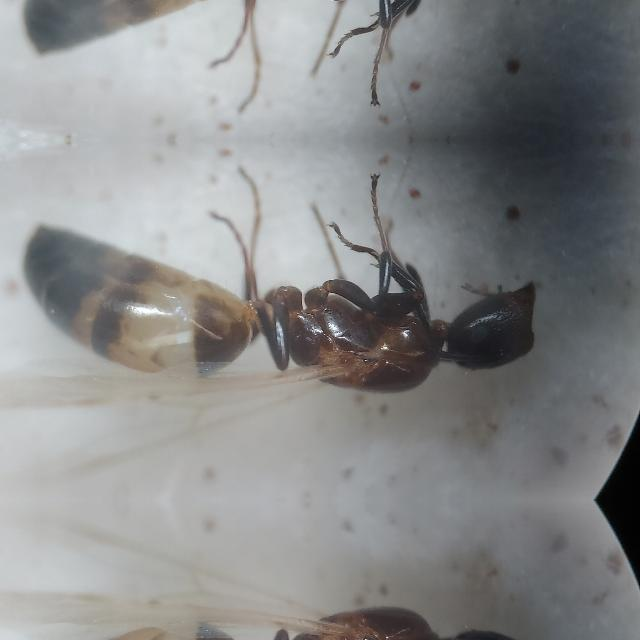Colobopsis: (19, 212, 596, 418), (18, 0, 596, 68), (18, 580, 596, 640)
